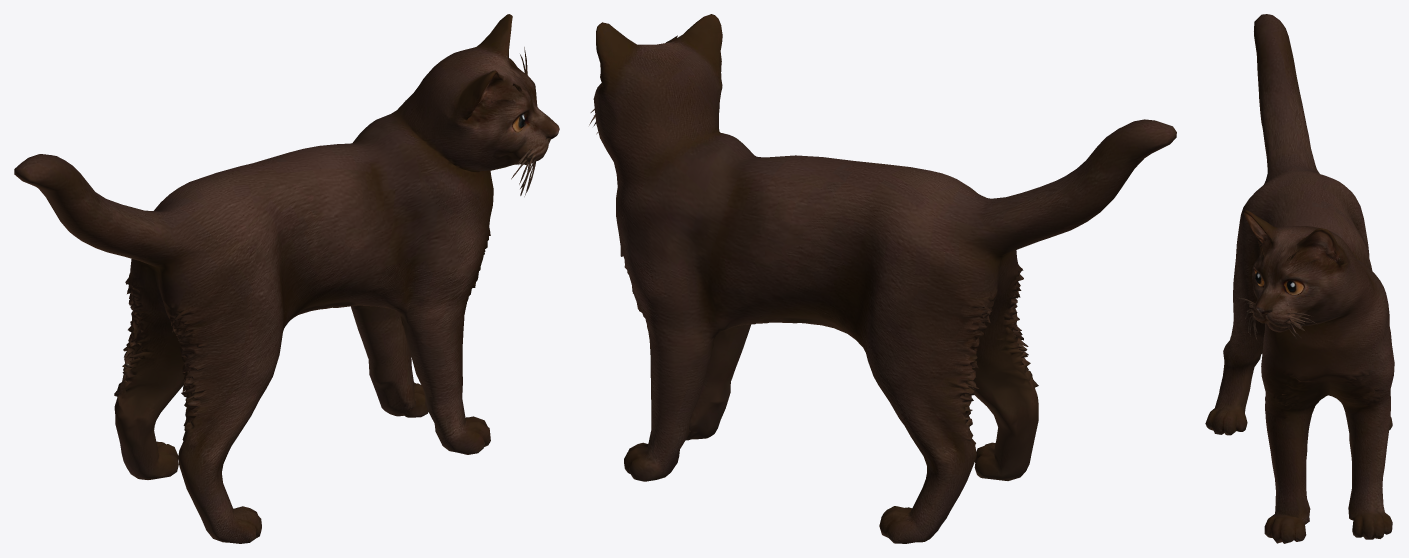
The model's file is UMBERPAW.glb.
3 views of the same model, side by side, from view 1: azimuth 30°, elevation 25°; view 2: azimuth 150°, elevation 25°; view 3: azimuth 270°, elevation 25° (orthographic). The views are drawn at different scales.
Parts seen in each view (by area): view 1: tripo_node_56782b52-ac7c-49bb-a544-488ab23bb995; view 2: tripo_node_56782b52-ac7c-49bb-a544-488ab23bb995; view 3: tripo_node_56782b52-ac7c-49bb-a544-488ab23bb995.
Part boxes in pixels (x1=…): tripo_node_56782b52-ac7c-49bb-a544-488ab23bb995: x1=14, y1=14, x2=559, y2=543; tripo_node_56782b52-ac7c-49bb-a544-488ab23bb995: x1=589, y1=14, x2=1176, y2=543; tripo_node_56782b52-ac7c-49bb-a544-488ab23bb995: x1=1205, y1=14, x2=1394, y2=543.
Size of the model in its own units: 1.41 by 1 by 0.5051.
Materials: 1 (1 with a texture image).
